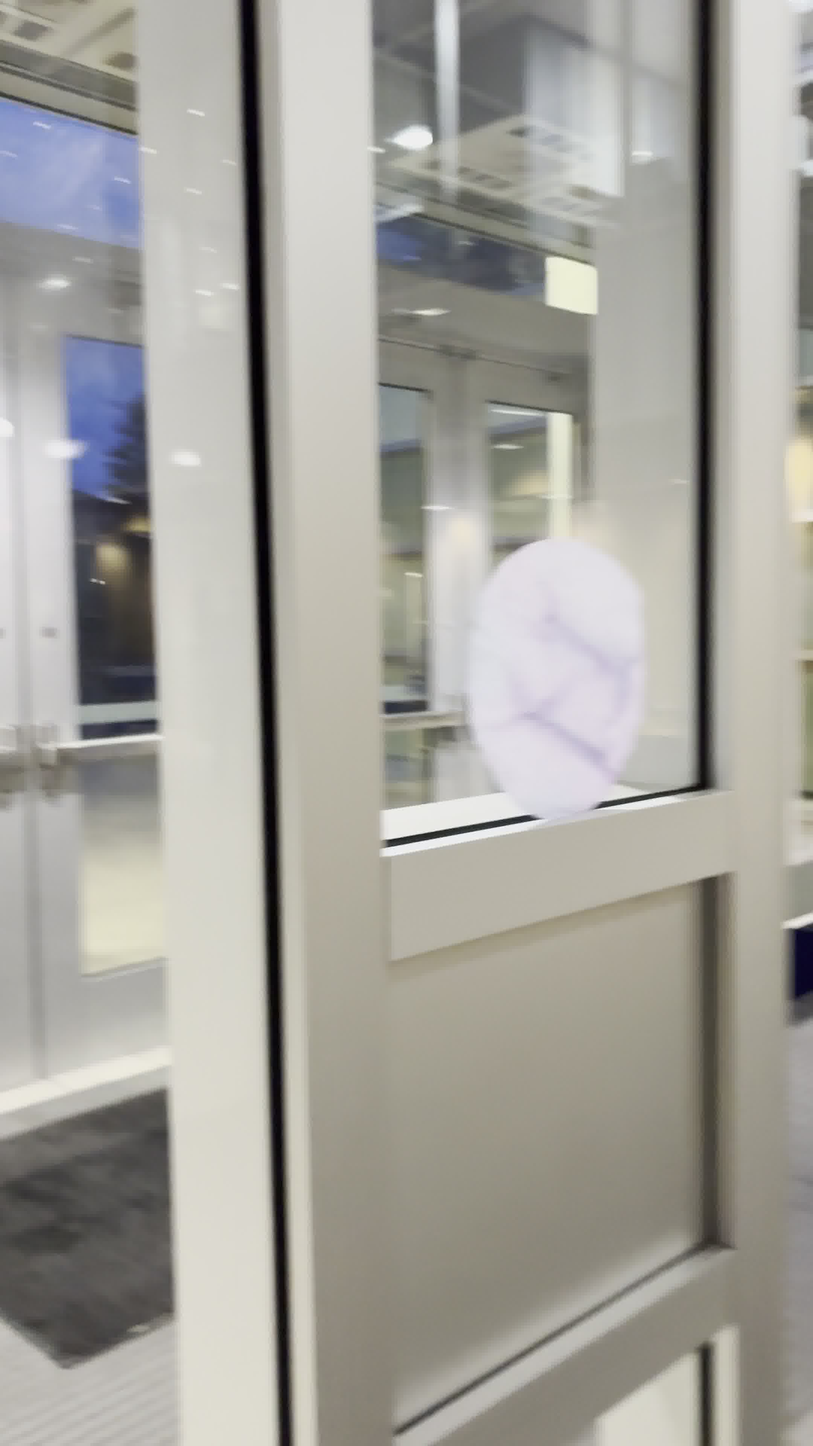Target: (462, 524, 651, 827)
